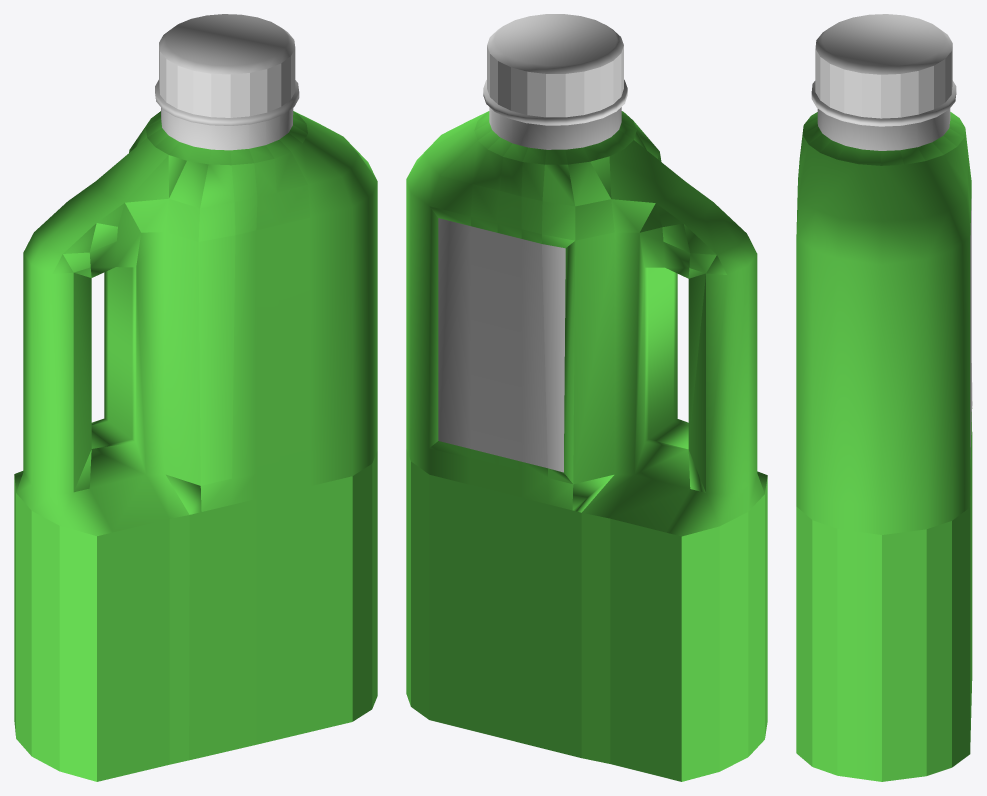
Rendered from Yogurt 1.fbx.
3 views of the same model, side by side, from view 1: azimuth 30°, elevation 25°; view 2: azimuth 150°, elevation 25°; view 3: azimuth 270°, elevation 25° (orthographic).
Parts seen in each view (by area): view 1: Node 0; view 2: Node 0; view 3: Node 0.
Boxes of the visible parts, x1=… form: Node 0: x1=14, y1=14, x2=377, y2=781; Node 0: x1=406, y1=14, x2=767, y2=781; Node 0: x1=796, y1=14, x2=972, y2=781.
Size of the model in its own units: 0.0489 by 0.2062 by 0.1076.
